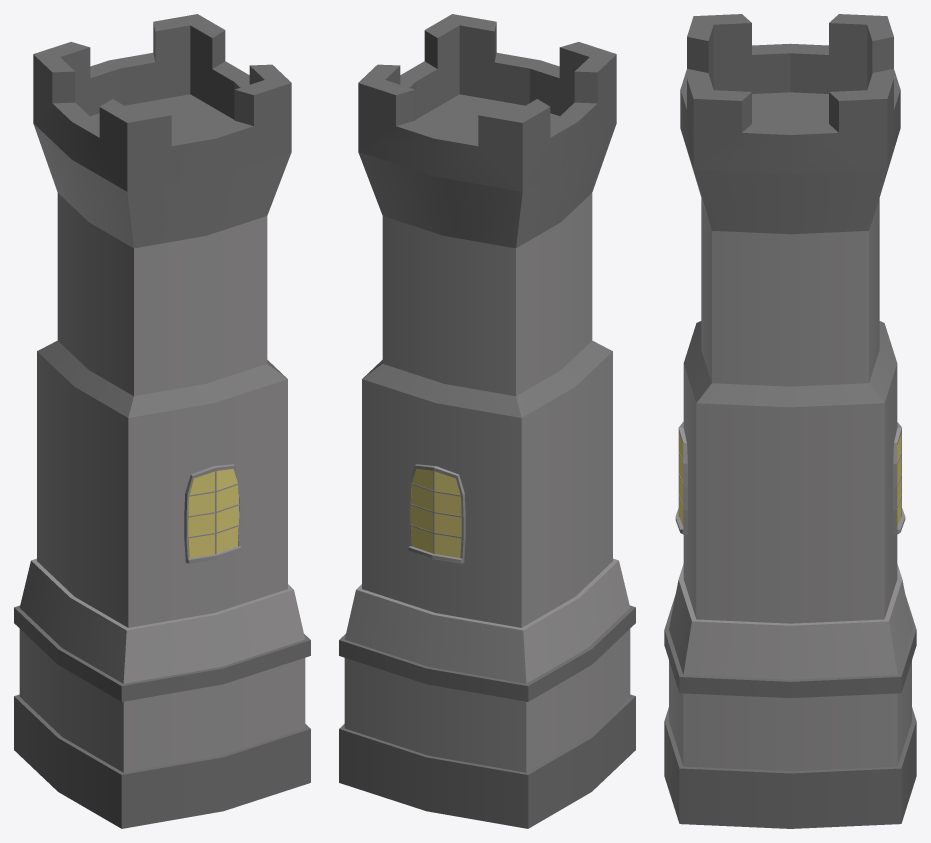
The model's file is Modular_wall_Wall_Tower_Window.fbx.
3 renders of one model, left to right at view 1: azimuth 30°, elevation 25°; view 2: azimuth 150°, elevation 25°; view 3: azimuth 270°, elevation 25°, orthographic. The views are drawn at different scales.
Visible parts, largest first — view 1: Wall_Tower_Window; view 2: Wall_Tower_Window; view 3: Wall_Tower_Window.
Boxes of the visible parts, x1,y1,x2,y2 form: Wall_Tower_Window: (14,14,310,828); Wall_Tower_Window: (339,14,635,828); Wall_Tower_Window: (664,14,916,828).
Size of the model in its own units: 785 by 2509 by 797.
